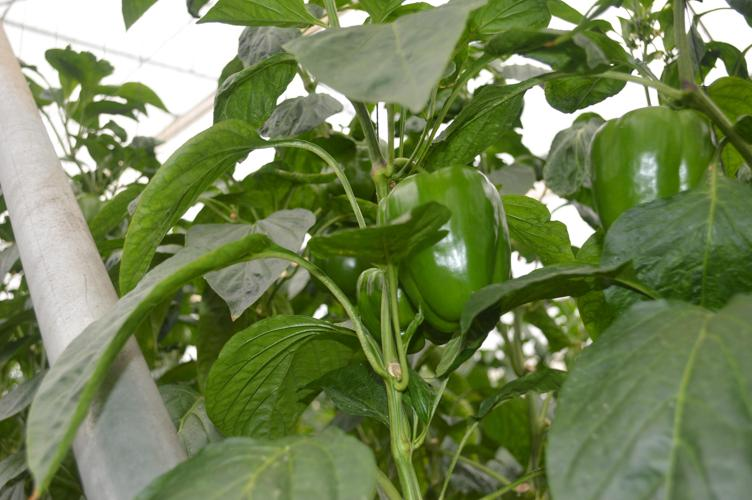BellPepper: (388, 163, 508, 331), (588, 108, 713, 238), (354, 274, 424, 350), (306, 222, 365, 293)
